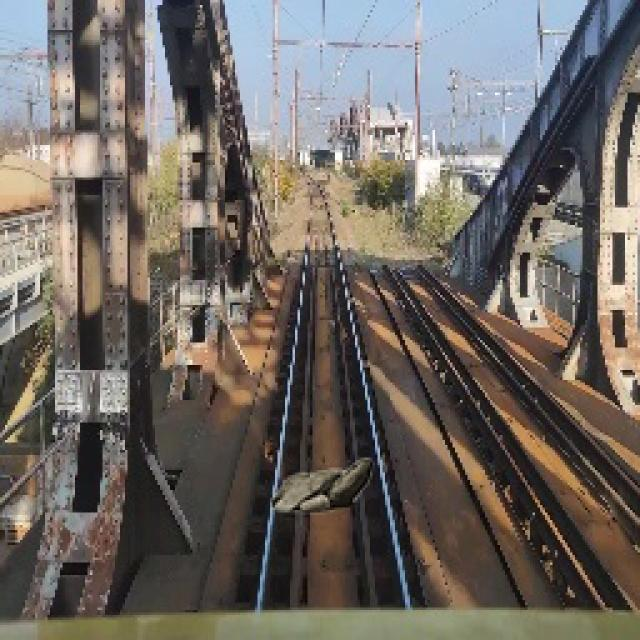danger: (264, 453, 377, 517)
rail: (229, 165, 441, 611)
